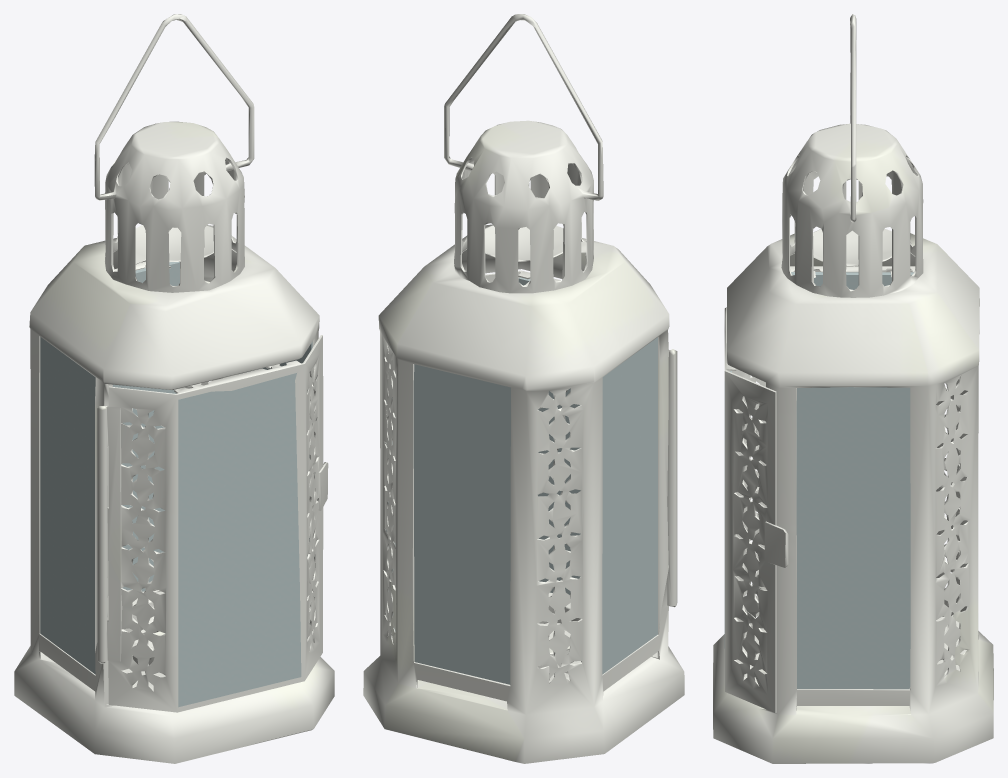
Rendered from 14 - ENRUM Lantern for tealight, inoutdoor - white 22 cm.glb.
3 views of the same model, side by side, from view 1: azimuth 30°, elevation 25°; view 2: azimuth 150°, elevation 25°; view 3: azimuth 270°, elevation 25° (orthographic).
Parts seen in each view (by area): view 1: ProcessedMeshNode, 2; view 2: ProcessedMeshNode, 2; view 3: ProcessedMeshNode, 2.
Part boxes in pixels (x1,y1,x2,y2): ProcessedMeshNode: [14, 14, 334, 763]; 2: [40, 261, 312, 707]; ProcessedMeshNode: [363, 14, 684, 763]; 2: [385, 277, 657, 684]; ProcessedMeshNode: [713, 14, 993, 763]; 2: [724, 272, 914, 689].
Bounding box in the file's own units: 0.1 × 0.2706 × 0.1.
2 materials, 2 textured.
